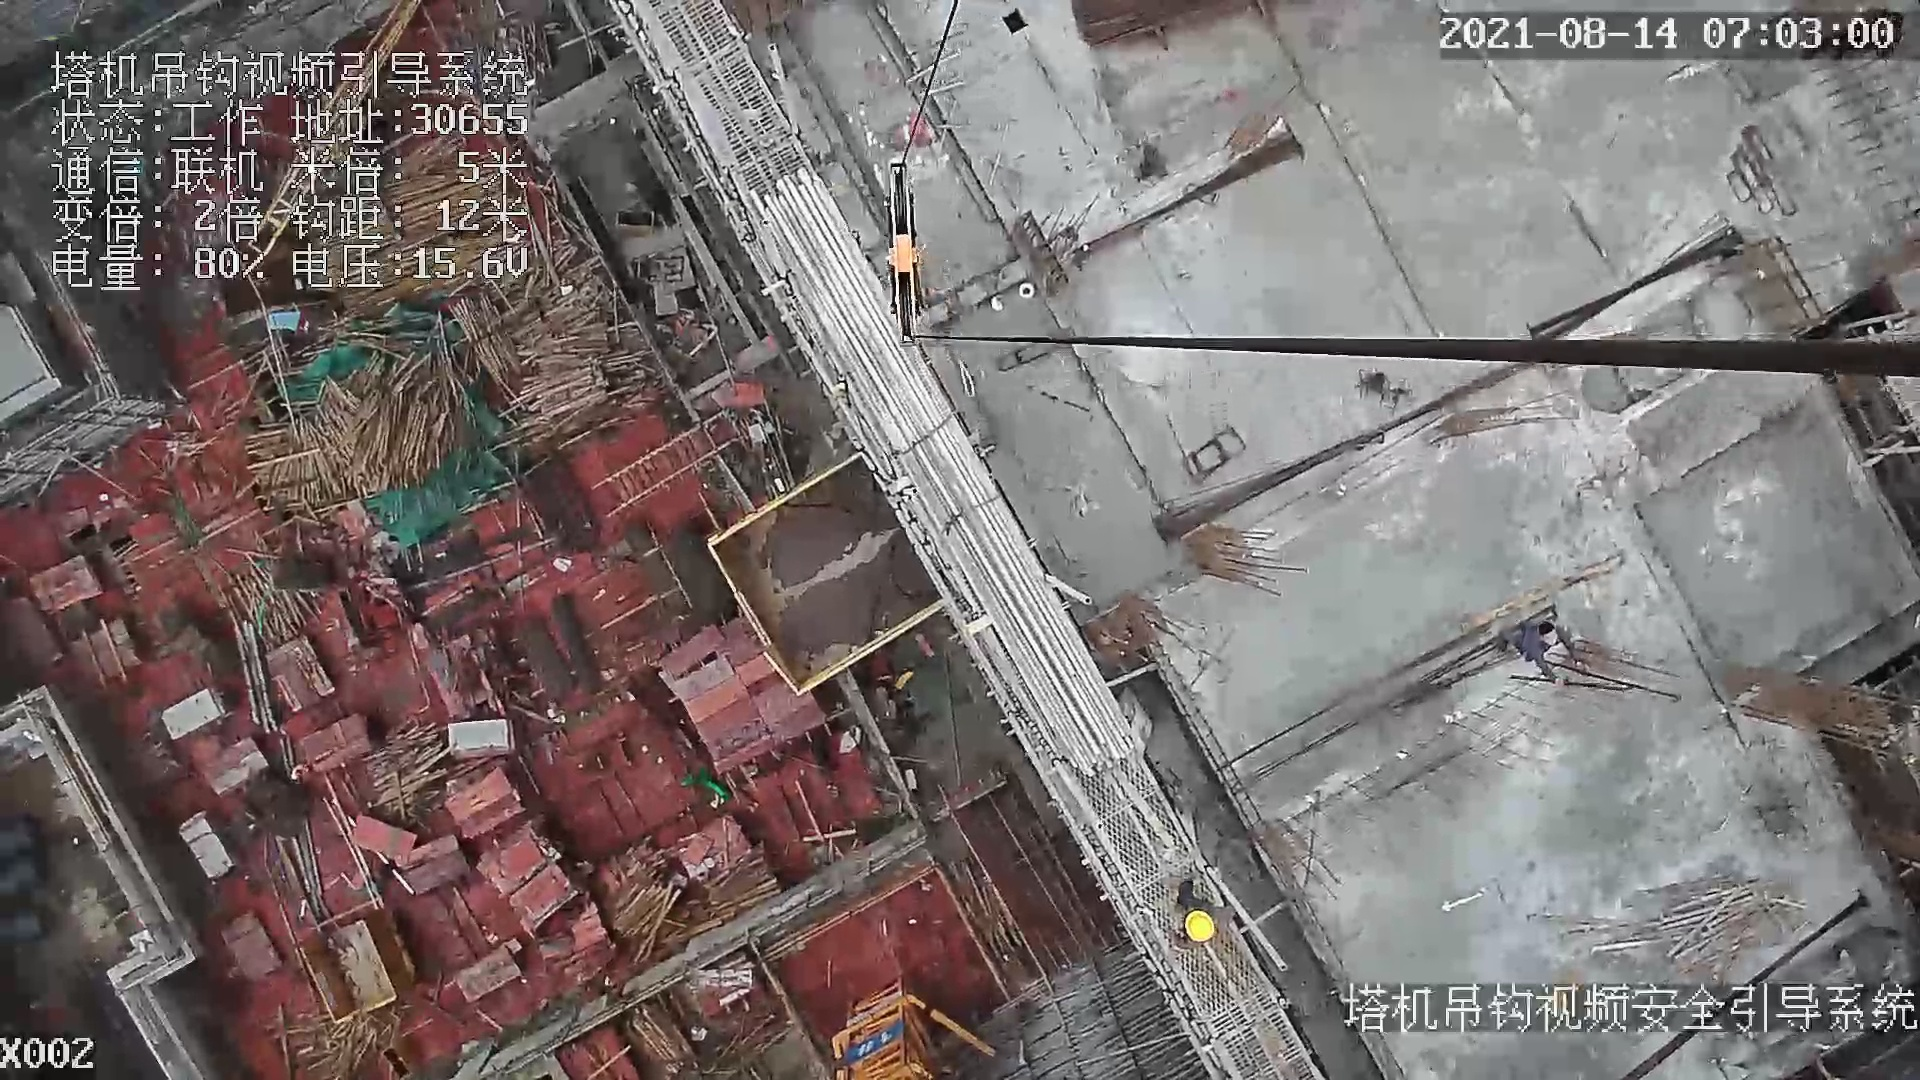helmet: (1184, 909, 1218, 944)
hook: (854, 153, 949, 351)
person: (1494, 618, 1592, 686), (1170, 876, 1235, 958)
slogan: (840, 1012, 906, 1065)
